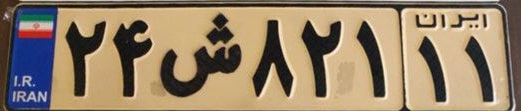1: (354, 17, 394, 102), (414, 32, 453, 107), (461, 32, 500, 106)
2: (295, 14, 348, 104), (61, 17, 113, 100)
4: (109, 15, 156, 101)
8: (248, 14, 297, 101)
ش: (158, 10, 245, 103)
